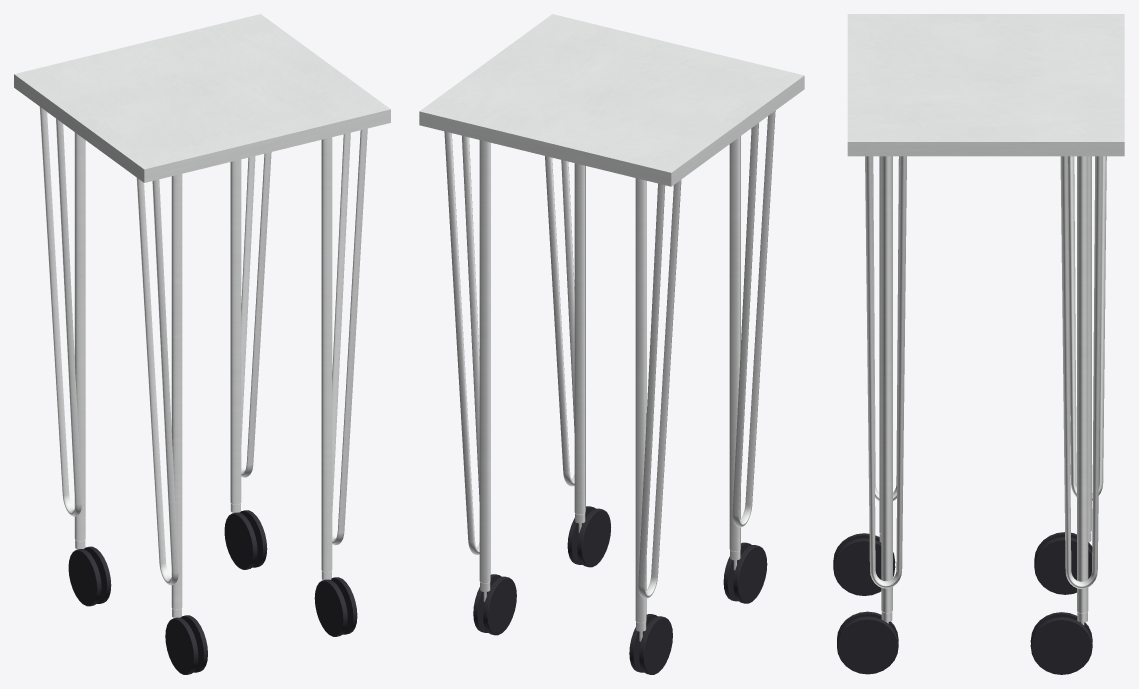
Rendered from Mesa_Brazo.obj.
3 views of the same model, side by side, from view 1: azimuth 30°, elevation 25°; view 2: azimuth 150°, elevation 25°; view 3: azimuth 270°, elevation 25° (orthographic). The views are drawn at different scales.
Parts seen in each view (by area): view 1: Mesa_Brazo; view 2: Mesa_Brazo; view 3: Mesa_Brazo.
Boxes of the visible parts, left/top/right/bottom form: Mesa_Brazo: left=14, top=14, right=390, bottom=674; Mesa_Brazo: left=419, top=14, right=804, bottom=674; Mesa_Brazo: left=833, top=14, right=1124, bottom=674.
Size of the model in its own units: 0.3816 by 0.7686 by 0.3673.
Materials: 2 (2 with a texture image).
